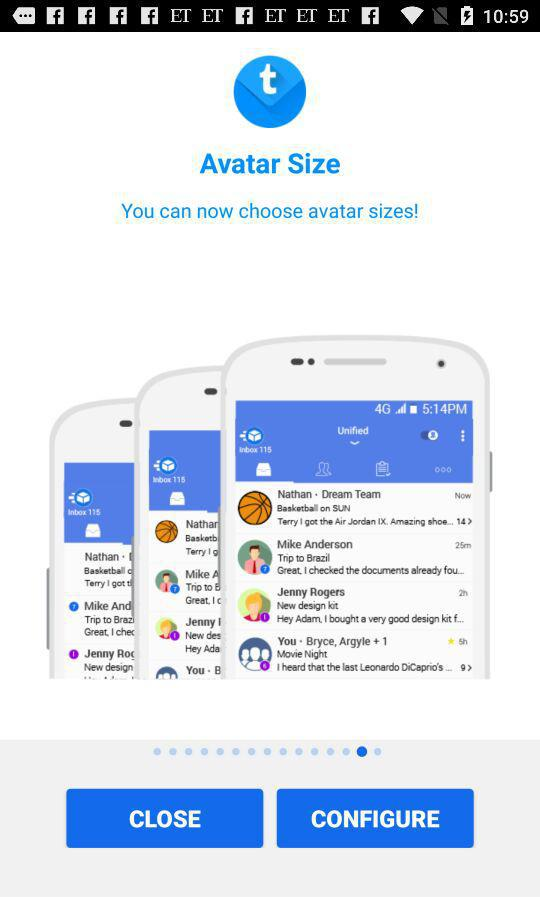Image: (47, 335, 493, 680), (234, 56, 307, 130)
PageIndicator: (153, 745, 383, 758)
Text: (121, 203, 418, 220), (200, 153, 341, 175)
TextButton: (277, 788, 474, 848), (67, 788, 264, 848)
UpperTaskBar: (1, 1, 540, 33)
